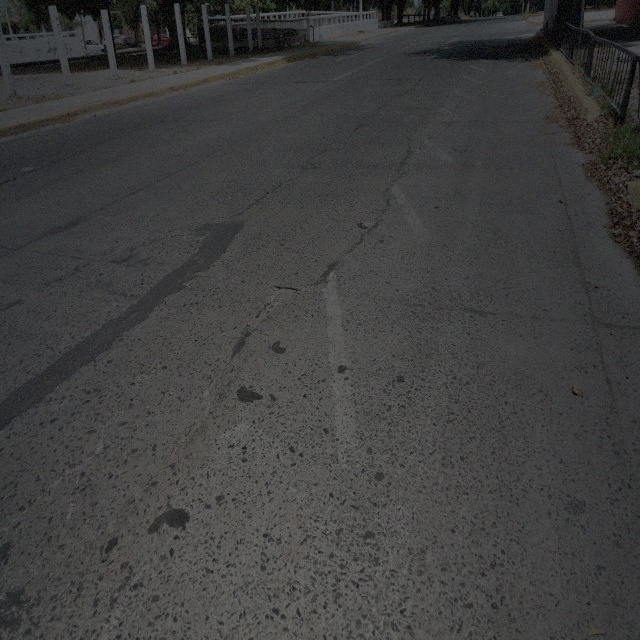pothole: (256, 284, 301, 332)
